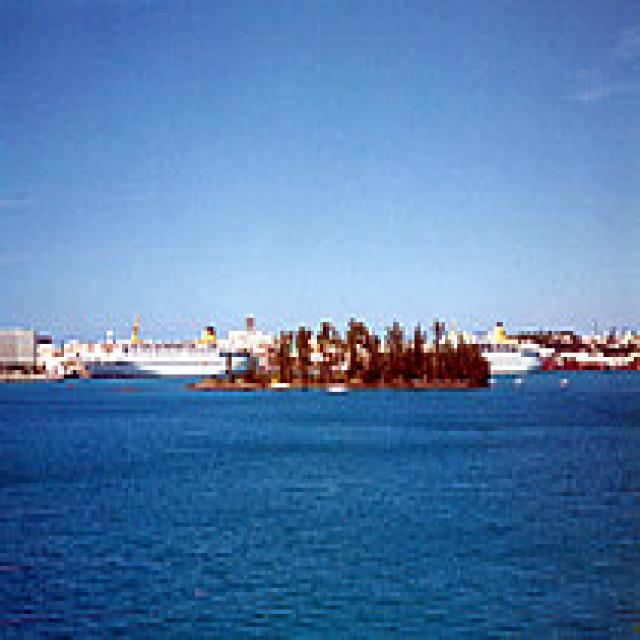Cruise: (67, 305, 247, 374)
